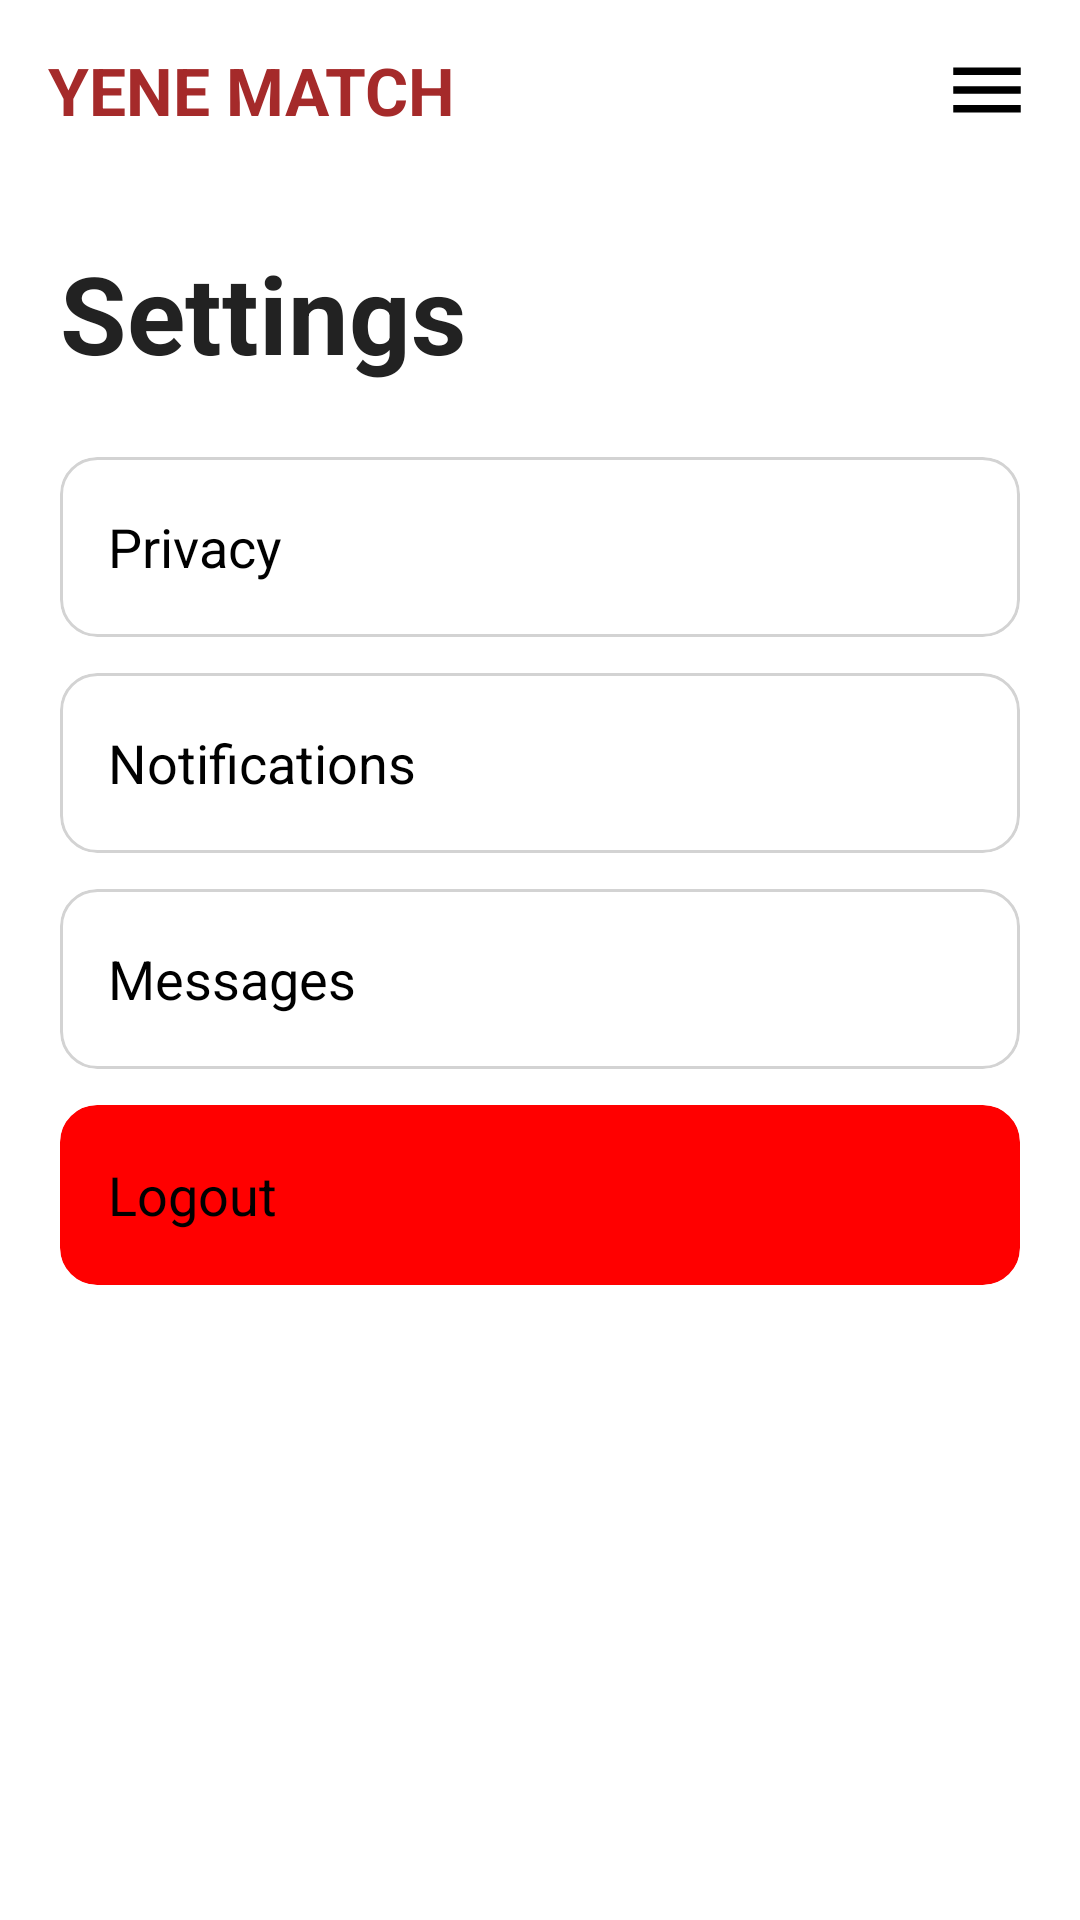

Icons on this 1080 × 1920 Android screen, each with the point to tap as (x,y):
hamburger: (987,90)
